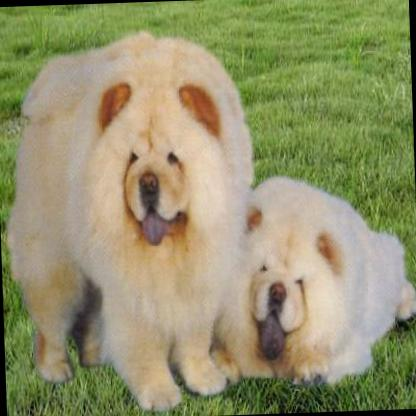chow: (0, 25, 261, 416), (214, 168, 416, 388)
